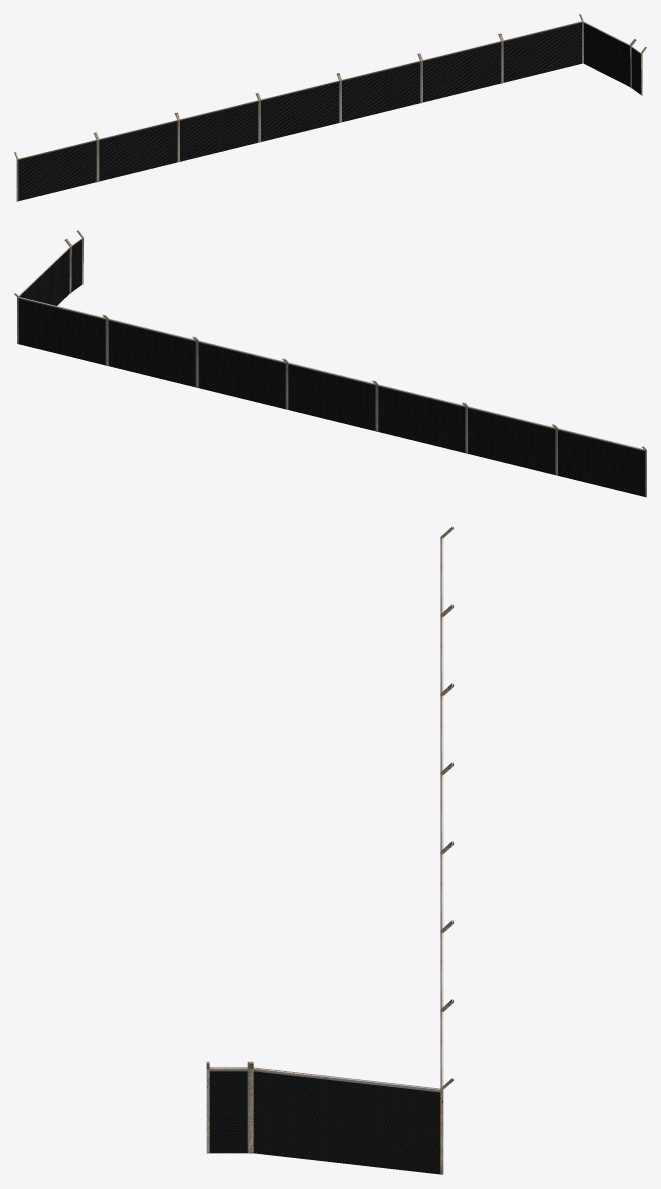
The model's file is M11Z1_ChainFence_A.glb.
3 views of the same model, one above another, from view 1: azimuth 30°, elevation 25°; view 2: azimuth 150°, elevation 25°; view 3: azimuth 270°, elevation 25° (orthographic). The views are drawn at different scales.
Parts seen in each view (by area): view 1: M11Z1_CHAINFENCE_A; view 2: M11Z1_CHAINFENCE_A; view 3: M11Z1_CHAINFENCE_A.
Part boxes in pixels (x1,y1,x2,y2): M11Z1_CHAINFENCE_A: [14, 14, 646, 201]; M11Z1_CHAINFENCE_A: [14, 230, 646, 497]; M11Z1_CHAINFENCE_A: [206, 526, 454, 1174].
Bounding box in the file's own units: 56.47 × 5.5 × 10.59.
4 materials, 4 textured.
